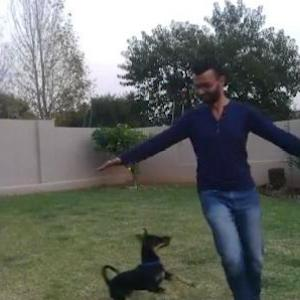land: (126, 63, 299, 287)
